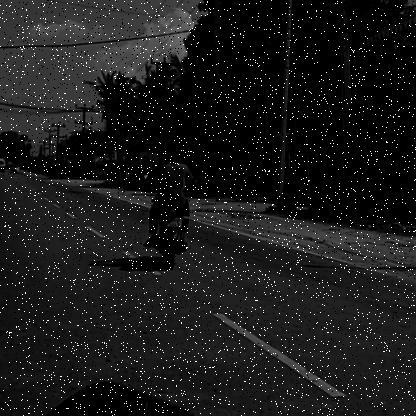motorcycle: (140, 197, 196, 276)
